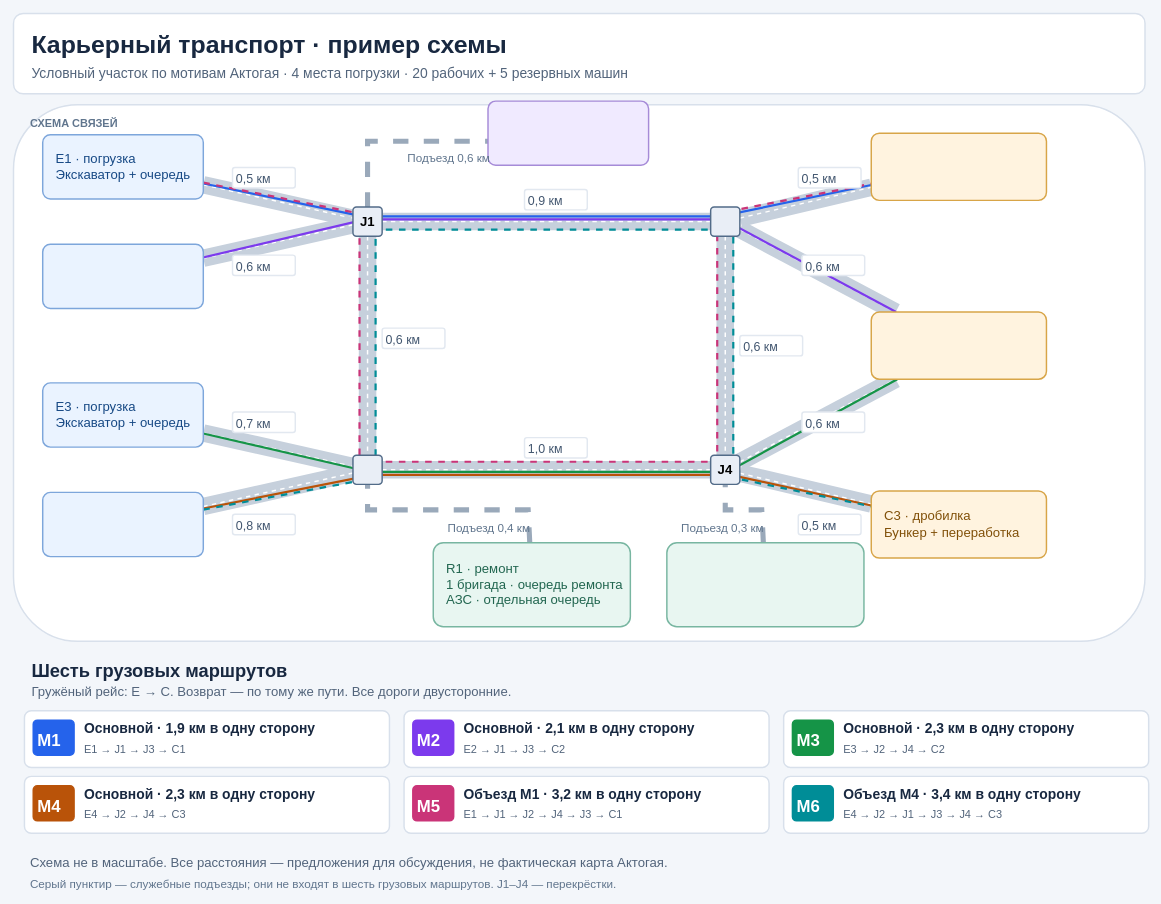
Some shapes in this 1161 by 904 pixel diagram are drawn without their labels. Here are the shapes that lost their labels. From the top down, the box of each, then its label:
(487, 100, 649, 166): P · резерв 5 самосвалов
(870, 132, 1047, 201): C1 · дробилка Бункер + переработка
(710, 206, 740, 237): J3
(42, 243, 204, 309): E2 · погрузка Экскаватор + очередь
(870, 311, 1047, 380): C2 · дробилка Бункер + переработка
(352, 454, 383, 485): J2
(42, 491, 204, 557): E4 · погрузка Экскаватор + очередь
(666, 542, 864, 627): R2 · ремонт 1 бригада · очередь ремонта АЗС · отдельная очередь
